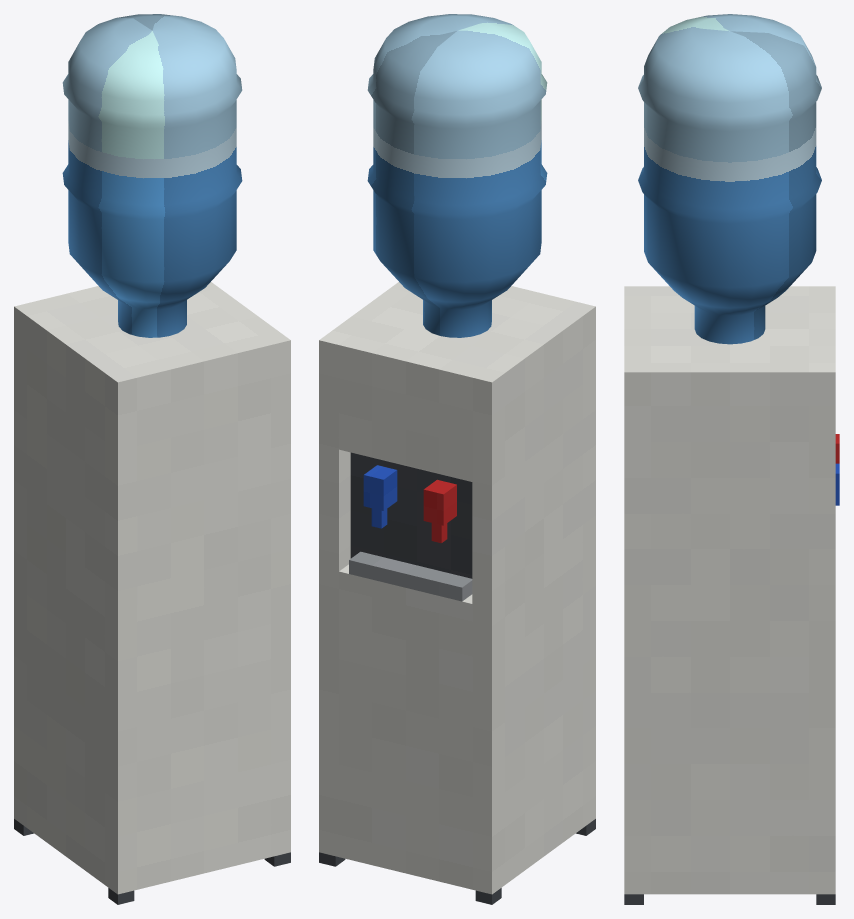
Rendered from waterdispenser.obj.
3 views of the same model, side by side, from view 1: azimuth 30°, elevation 25°; view 2: azimuth 150°, elevation 25°; view 3: azimuth 270°, elevation 25° (orthographic).
Parts seen in each view (by area): view 1: waterdispenser; view 2: waterdispenser; view 3: waterdispenser.
Boxes of the visible parts, bbox=[...] form: waterdispenser: bbox=[14, 14, 290, 904]; waterdispenser: bbox=[319, 14, 595, 904]; waterdispenser: bbox=[624, 14, 839, 904].
Size of the model in its own units: 0.325 by 1.46 by 0.3438.
